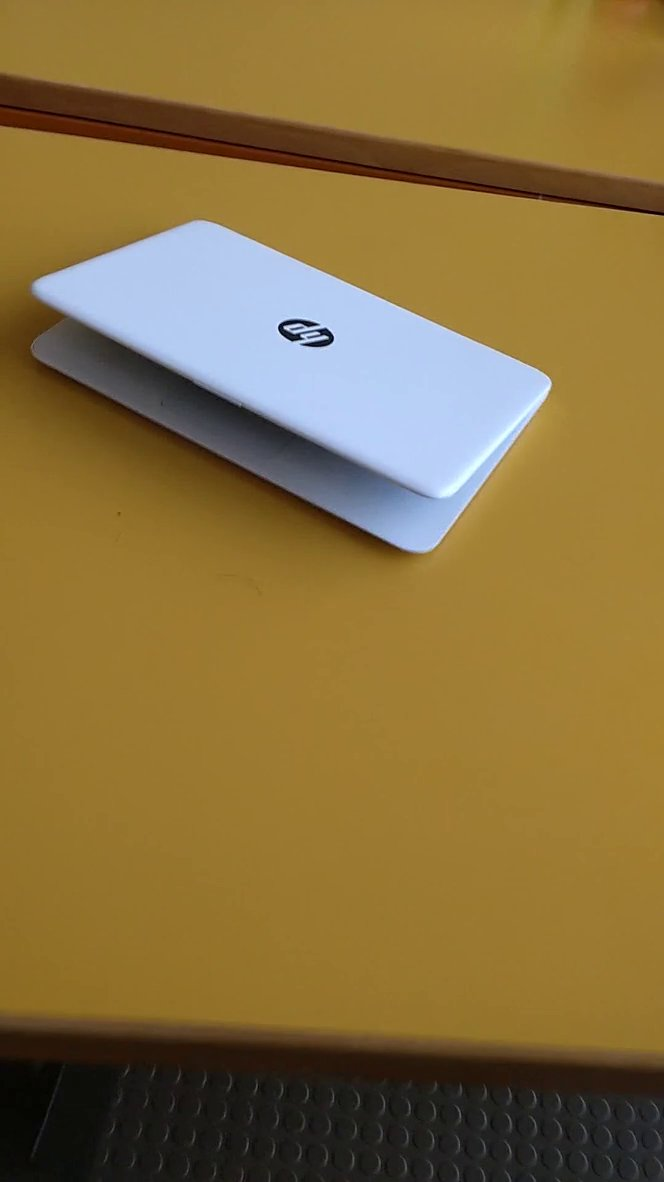laptop: (12, 205, 573, 578)
